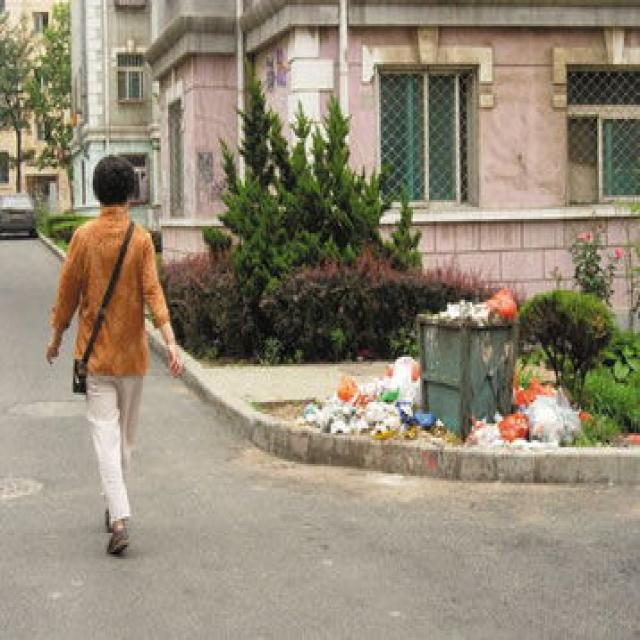garbage: (460, 357, 596, 445), (300, 352, 434, 438)
overflow: (413, 286, 517, 436)
